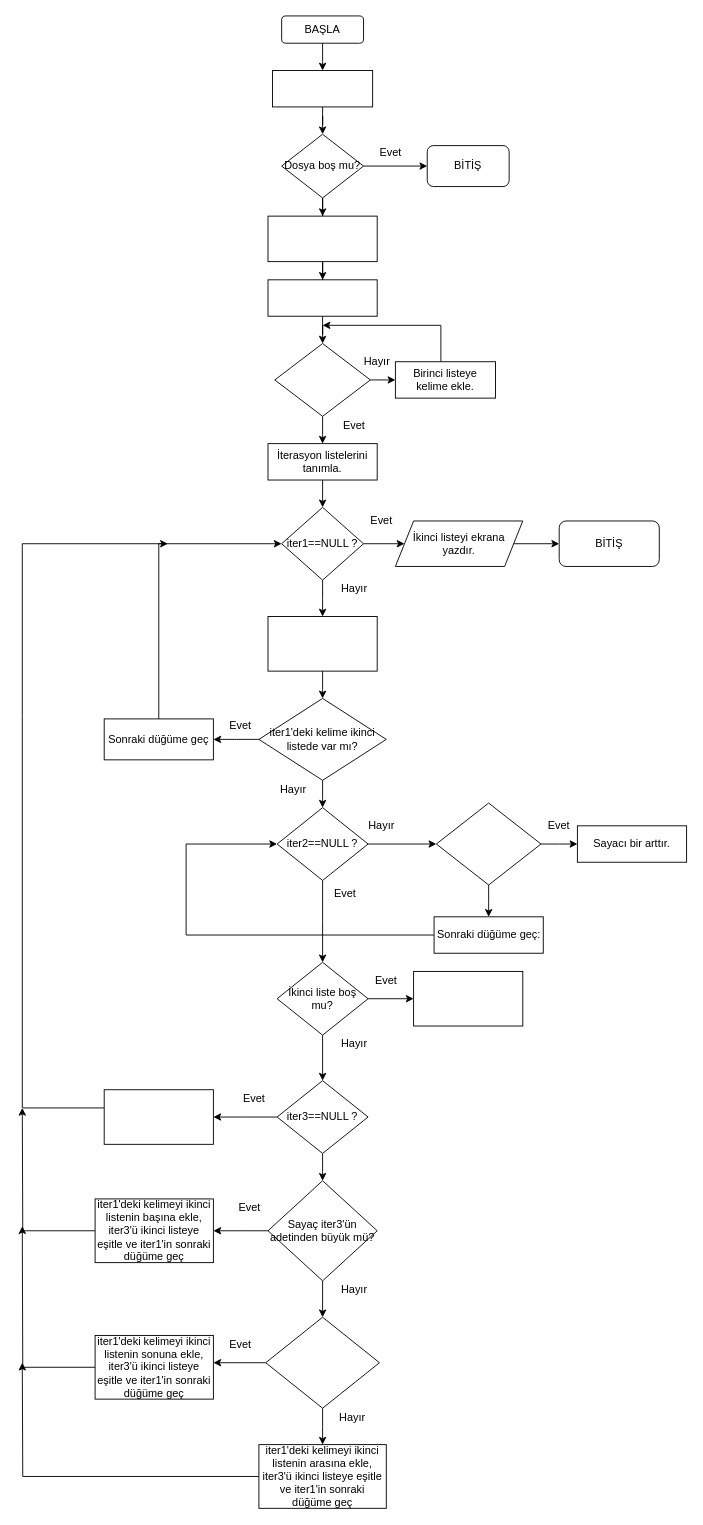
This 703x1525 diagram has some shape labels left out. The centre of each missing label's shape, as x and y in pixels:
"Dosyadaki metni char pointer'a aktar." goes at (x=322, y=238).
"Dosyayı oku." goes at (x=322, y=88).
"iter1'in sonraki düğümüne geç." goes at (x=158, y=1116).
"iter1deki kelimeyi ikinci listeye ekle. iter3'ü ikinci listeye eşitle." goes at (x=468, y=998).
"iterlerin kelimeleri aynı mı?" goes at (x=488, y=843).
"kelime==NULL ?" goes at (x=322, y=379).
"Listeleri tanımla." goes at (x=322, y=297).
"Sayacı tanımla ve ikinci iterasyon listesini birinci listeye eşitle." goes at (x=322, y=643).
"Sayaç iter3'ün adetinden küçük eşit ve iter3'ün sonraki düğümü NULL mu?" goes at (x=322, y=1362).
